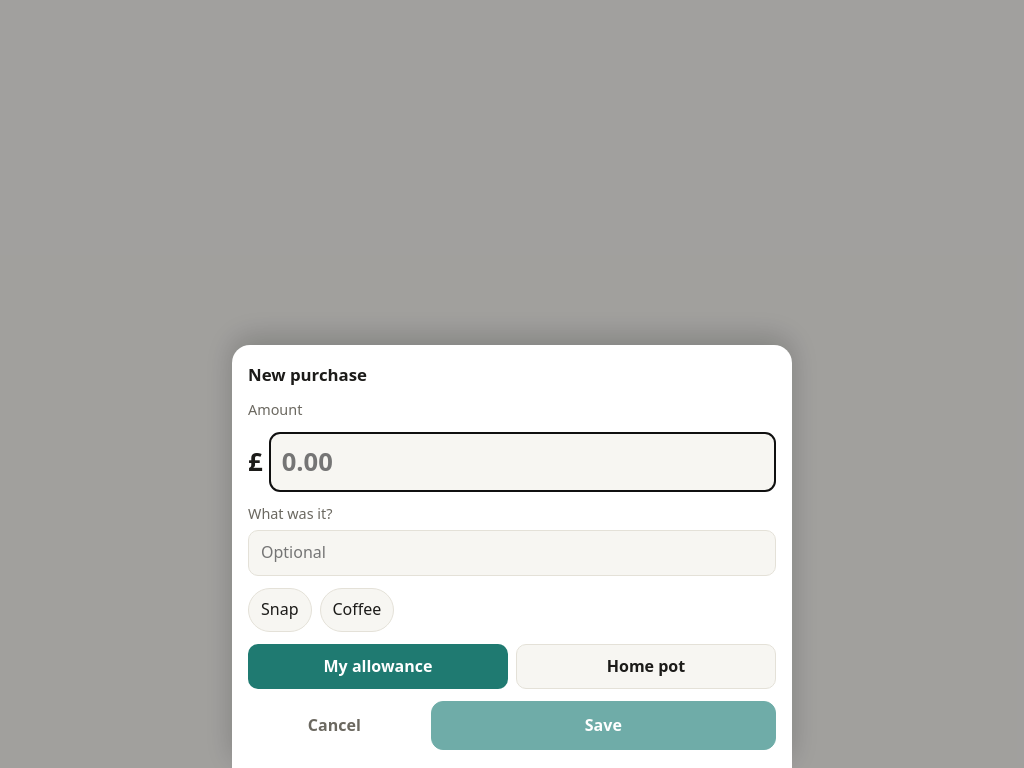
recent labels from my past entries are offered as chips
Click the button "Snap": (280,610) [248,588,312,632]
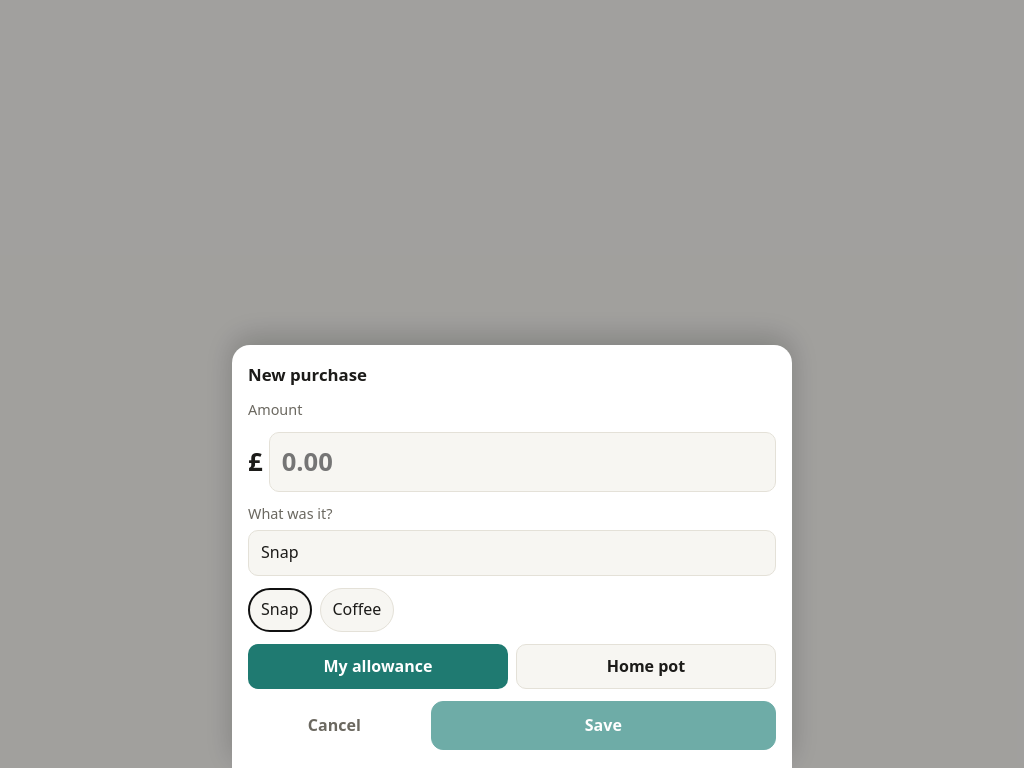
Check: the field labelled "What was it?" holds "Snap", box [248,530,776,576]
